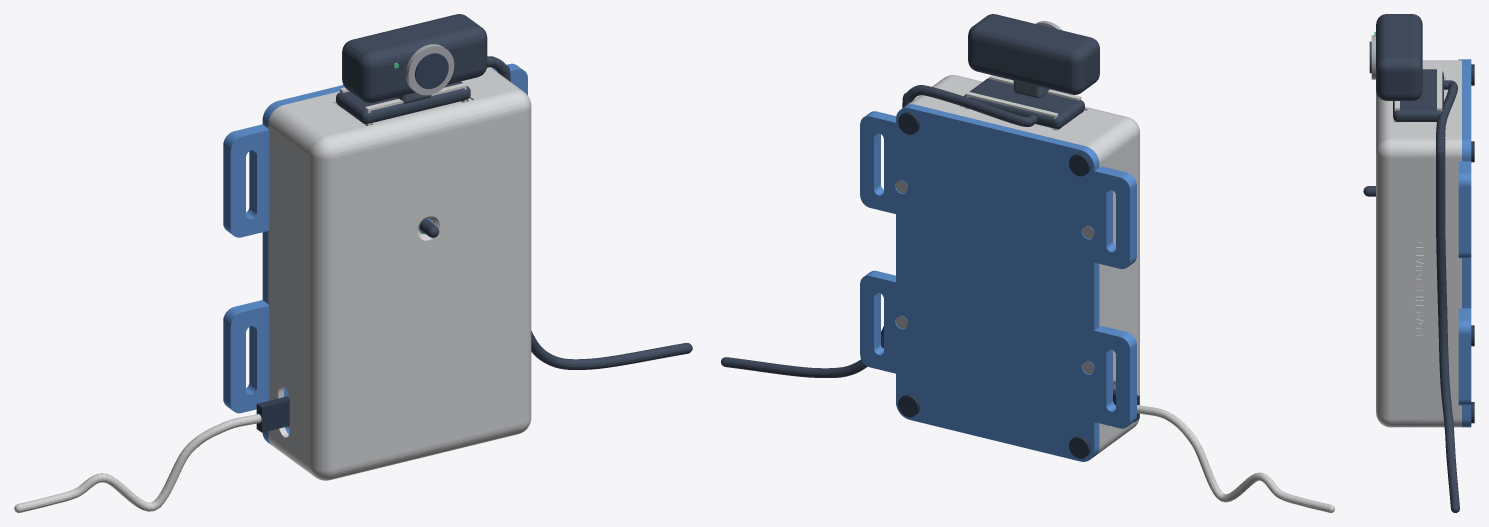
The model's file is field_node_full_assembly_colour.glb.
3 views of the same model, side by side, from view 1: azimuth 30°, elevation 25°; view 2: azimuth 150°, elevation 25°; view 3: azimuth 270°, elevation 25° (orthographic). The views are drawn at different scales.
Parts seen in each view (by area): view 1: casing_shell, casing_base, webcam_head, esp_usb_cable, cam_usb_cable, webcam_base, webcam_lens_ring, esp_usb_plug, webcam_lens; view 2: casing_base, casing_shell, webcam_head, cam_usb_cable, webcam_base, esp_usb_cable, zip_ties; view 3: casing_shell, casing_base, cam_usb_cable, webcam_head, webcam_base, zip_ties, webcam_lens_ring.
Part boxes in pixels (left/top/right/bottom): casing_shell: left=268, top=67, right=531, bottom=480; casing_base: left=223, top=63, right=527, bottom=444; webcam_head: left=342, top=14, right=487, bottom=103; esp_usb_cable: left=14, top=414, right=261, bottom=512; cam_usb_cable: left=487, top=56, right=692, bottom=369; webcam_base: left=336, top=81, right=470, bottom=124; webcam_lens_ring: left=405, top=44, right=454, bottom=95; esp_usb_plug: left=256, top=396, right=289, bottom=432; webcam_lens: left=415, top=53, right=448, bottom=88; casing_base: left=860, top=104, right=1136, bottom=461; casing_shell: left=907, top=75, right=1139, bottom=454; webcam_head: left=968, top=14, right=1099, bottom=94; cam_usb_cable: left=721, top=85, right=1037, bottom=377; webcam_base: left=964, top=78, right=1084, bottom=129; esp_usb_cable: left=1137, top=405, right=1334, bottom=512; zip_ties: left=966, top=75, right=1081, bottom=130; casing_shell: left=1376, top=60, right=1461, bottom=427; casing_base: left=1458, top=59, right=1471, bottom=427; cam_usb_cable: left=1436, top=80, right=1459, bottom=512; webcam_head: left=1376, top=14, right=1422, bottom=100; webcam_base: left=1393, top=69, right=1443, bottom=121; zip_ties: left=1394, top=68, right=1442, bottom=122; webcam_lens_ring: left=1371, top=35, right=1375, bottom=79.
Size of the model in its own units: 0.3094 by 0.1924 by 0.0525.
